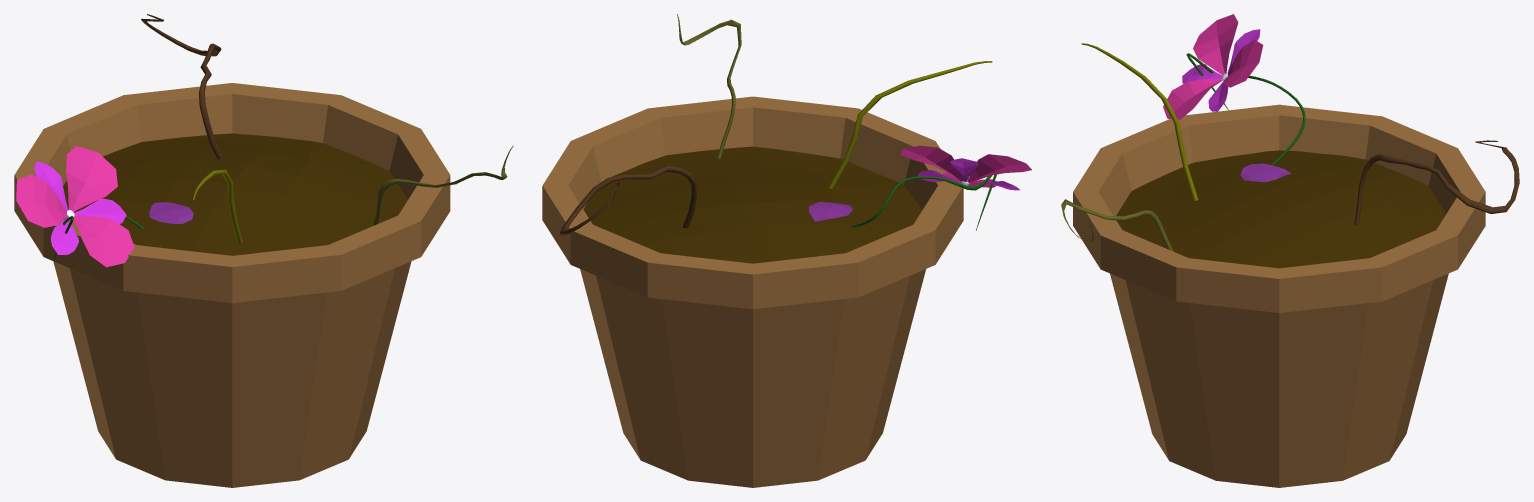
The model's file is Flower1_Frame3.fbx.
3 renders of one model, left to right at view 1: azimuth 30°, elevation 25°; view 2: azimuth 150°, elevation 25°; view 3: azimuth 270°, elevation 25°, orthographic. The views are drawn at different scales.
Visible parts, largest first — view 1: Cylinder, Circle, BézierCurve|Circle.008|Dupli|, BézierCurve.002, BézierCurve.001, Circle.001, BézierCurve.003; view 2: Cylinder, Circle, BézierCurve|Circle.008|Dupli|, BézierCurve.002, BézierCurve.003, BézierCurve.001, BézierCurve, Circle.001; view 3: Cylinder, Circle, BézierCurve|Circle.008|Dupli|, BézierCurve.002, BézierCurve.003, BézierCurve.001, Circle.001, BézierCurve.
Boxes of the visible parts, x1,y1,x2,y2 form: Cylinder: [14, 83, 450, 487]; Circle: [63, 133, 407, 255]; BézierCurve|Circle.008|Dupli|: [16, 146, 134, 267]; BézierCurve.002: [141, 14, 223, 158]; BézierCurve.001: [373, 145, 513, 225]; Circle.001: [149, 202, 193, 223]; BézierCurve.003: [193, 169, 242, 243]; Cylinder: [542, 96, 963, 487]; Circle: [583, 146, 921, 263]; BézierCurve|Circle.008|Dupli|: [900, 145, 1031, 190]; BézierCurve.002: [560, 166, 696, 235]; BézierCurve.003: [828, 61, 992, 188]; BézierCurve.001: [677, 14, 741, 158]; BézierCurve: [852, 174, 996, 230]; Circle.001: [809, 202, 852, 221]; Cylinder: [1073, 104, 1485, 487]; Circle: [1116, 150, 1445, 268]; BézierCurve|Circle.008|Dupli|: [1163, 14, 1263, 119]; BézierCurve.002: [1354, 140, 1519, 225]; BézierCurve.003: [1081, 43, 1198, 200]; BézierCurve.001: [1061, 199, 1173, 251]; Circle.001: [1240, 163, 1291, 182]; BézierCurve: [1186, 53, 1305, 165].
Size of the model in its own units: 2.62 by 1.97 by 2.51.
